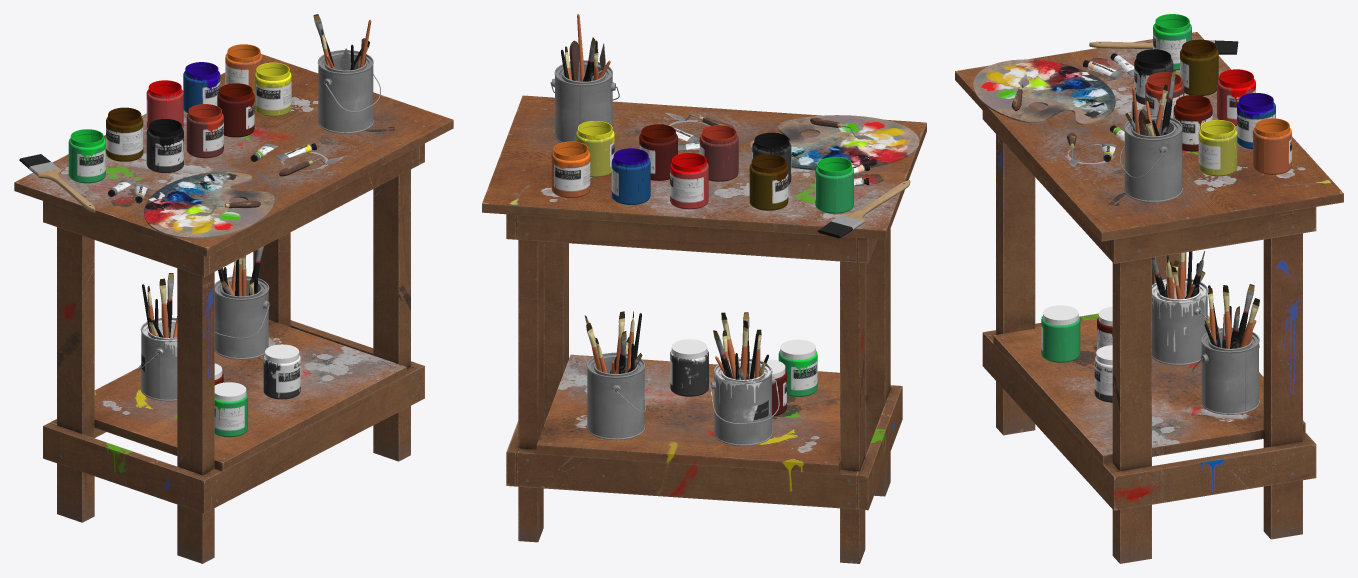
The model's file is SM_MERGED_Acrylic_plastic12_54.fbx.
The picture shows the model from 3 angles, left to right: view 1: azimuth 30°, elevation 25°; view 2: azimuth 150°, elevation 25°; view 3: azimuth 270°, elevation 25°; orthographic projection. The views are drawn at different scales.
Parts seen in each view (by area): view 1: SM_MERGED_Acrylic_plastic12_54; view 2: SM_MERGED_Acrylic_plastic12_54; view 3: SM_MERGED_Acrylic_plastic12_54.
Boxes of the visible parts, bbox=[...] form: SM_MERGED_Acrylic_plastic12_54: bbox=[14, 14, 453, 563]; SM_MERGED_Acrylic_plastic12_54: bbox=[482, 14, 926, 563]; SM_MERGED_Acrylic_plastic12_54: bbox=[955, 14, 1343, 563].
Bounding box in the file's own units: 91.38 × 97.4 × 74.76.
